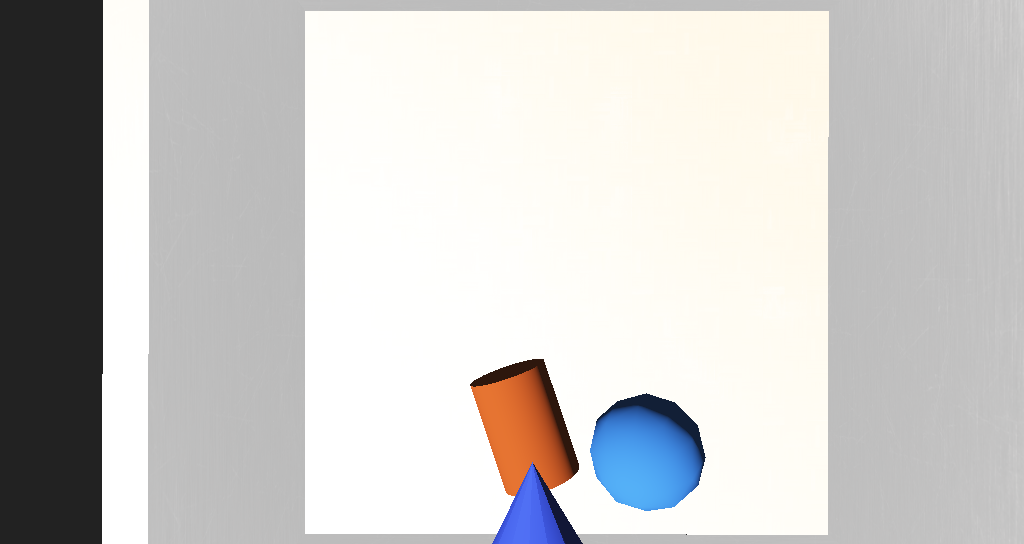cone: (445, 301, 512, 358)
cylinder: (438, 329, 519, 396)
sphere: (512, 317, 579, 360)
